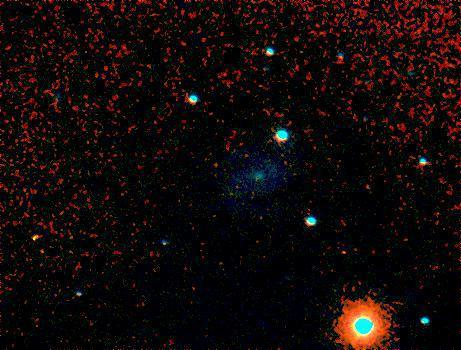star: (327, 235, 357, 265)
